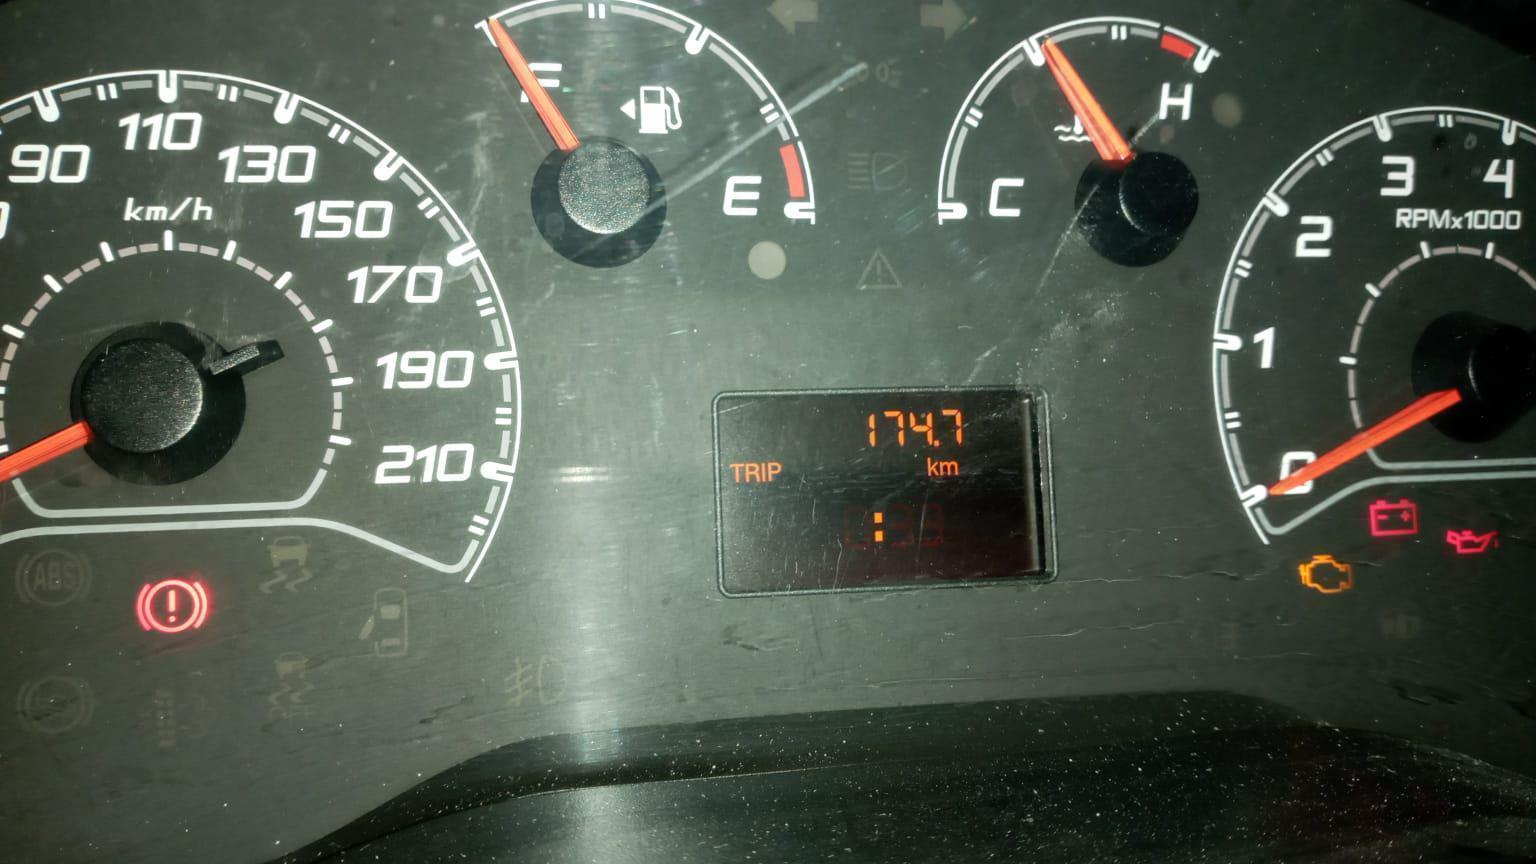,: (932, 439, 940, 448)
7: (941, 408, 963, 445)
X: (908, 409, 934, 446), (882, 410, 905, 448), (871, 510, 885, 544), (728, 462, 744, 483), (744, 462, 760, 483), (939, 460, 959, 476), (868, 411, 877, 447), (767, 461, 781, 482), (926, 456, 939, 477), (760, 461, 766, 483)
odometer: (707, 381, 1062, 601)
